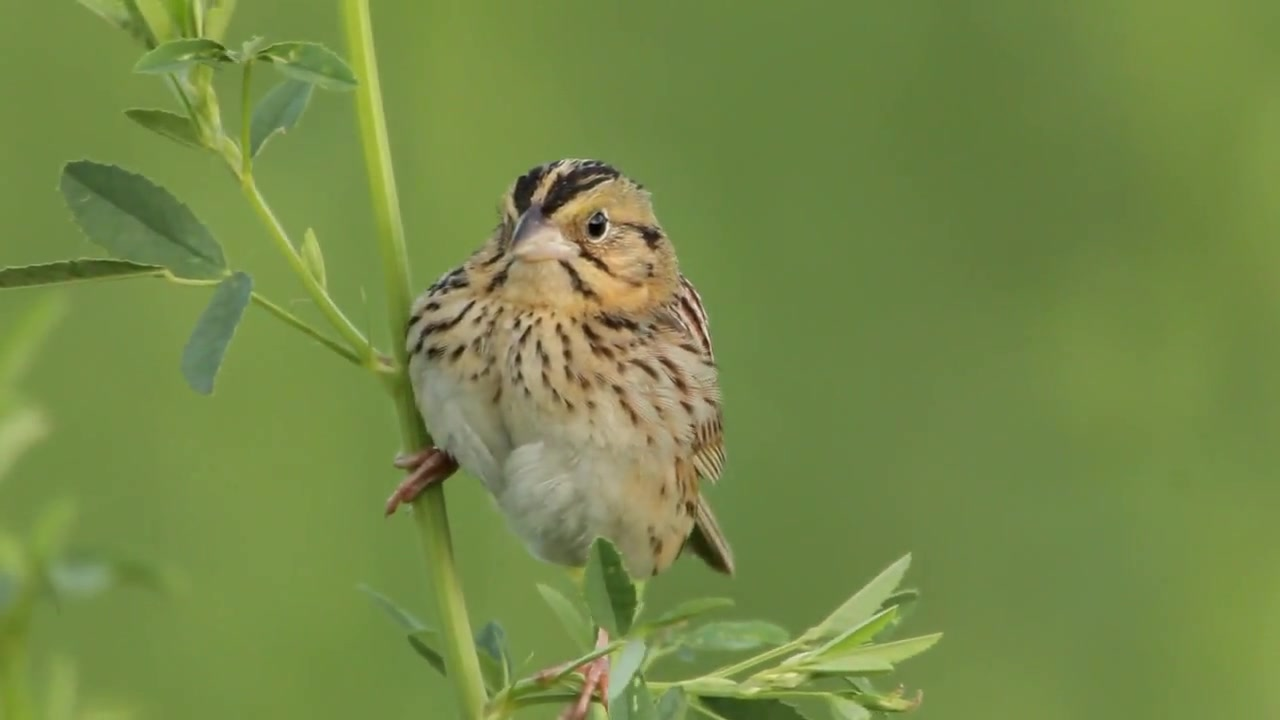bird: (383, 154, 739, 720)
